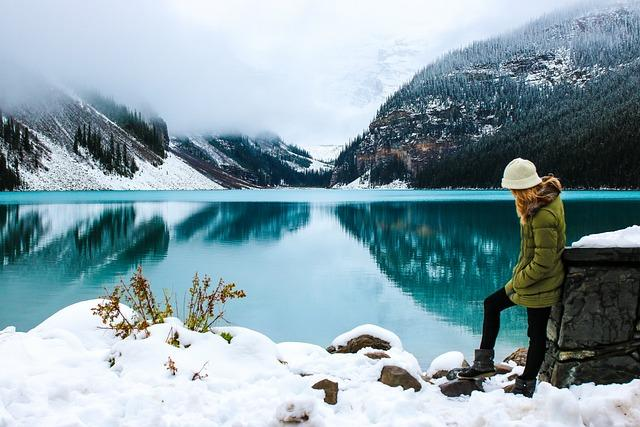Non_Gorille: (38, 37, 629, 403)
